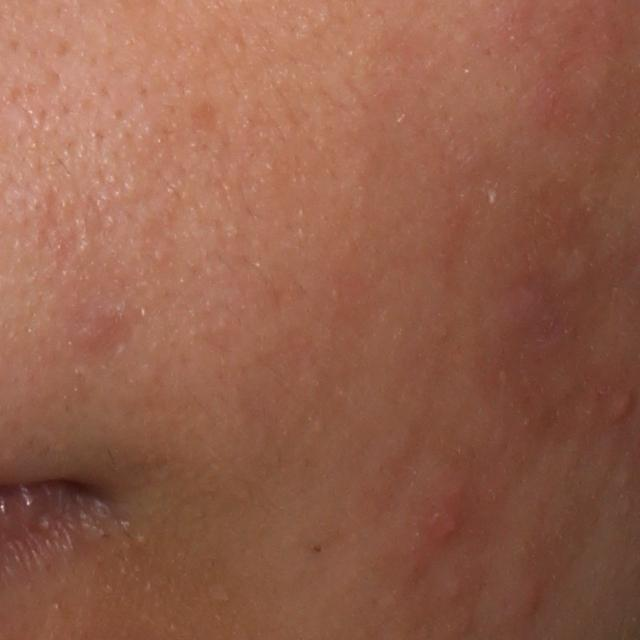papule: (510, 572, 549, 627), (430, 490, 466, 545), (607, 387, 639, 424)
